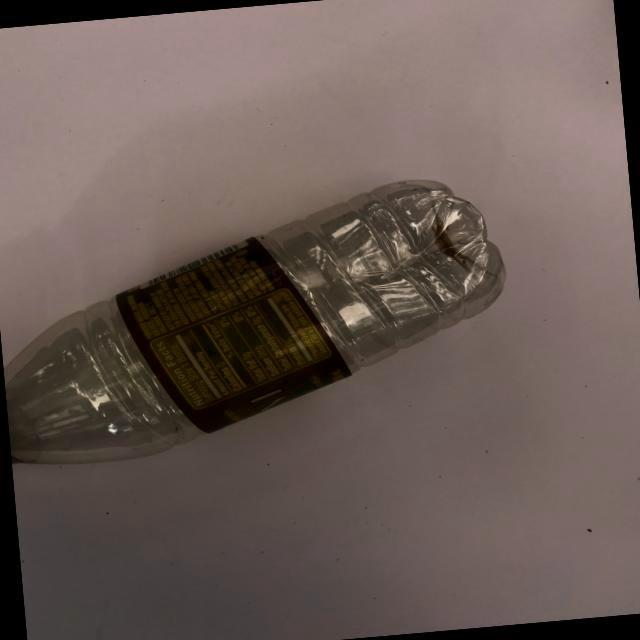plastic: (0, 144, 539, 497)
